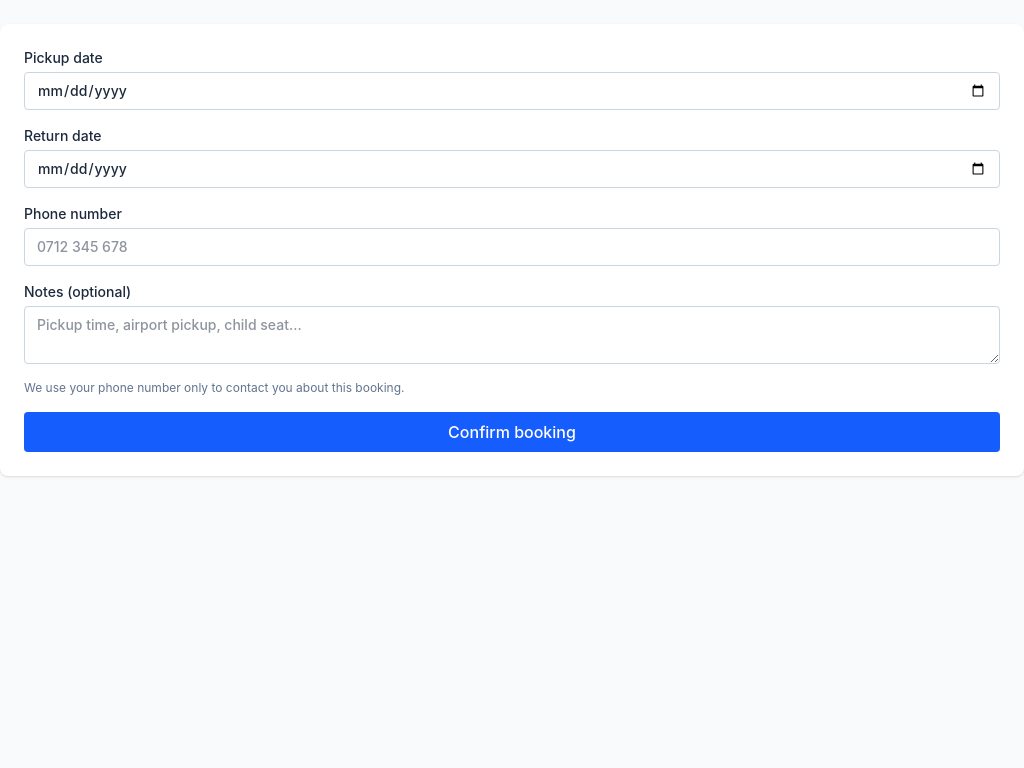
Scenario: BookingForm › rejects an invalid phone number
In the date field labelled "Pickup date": {"x": 512, "y": 91} x1=24 y1=72 x2=1000 y2=110, type "2099-01-10"
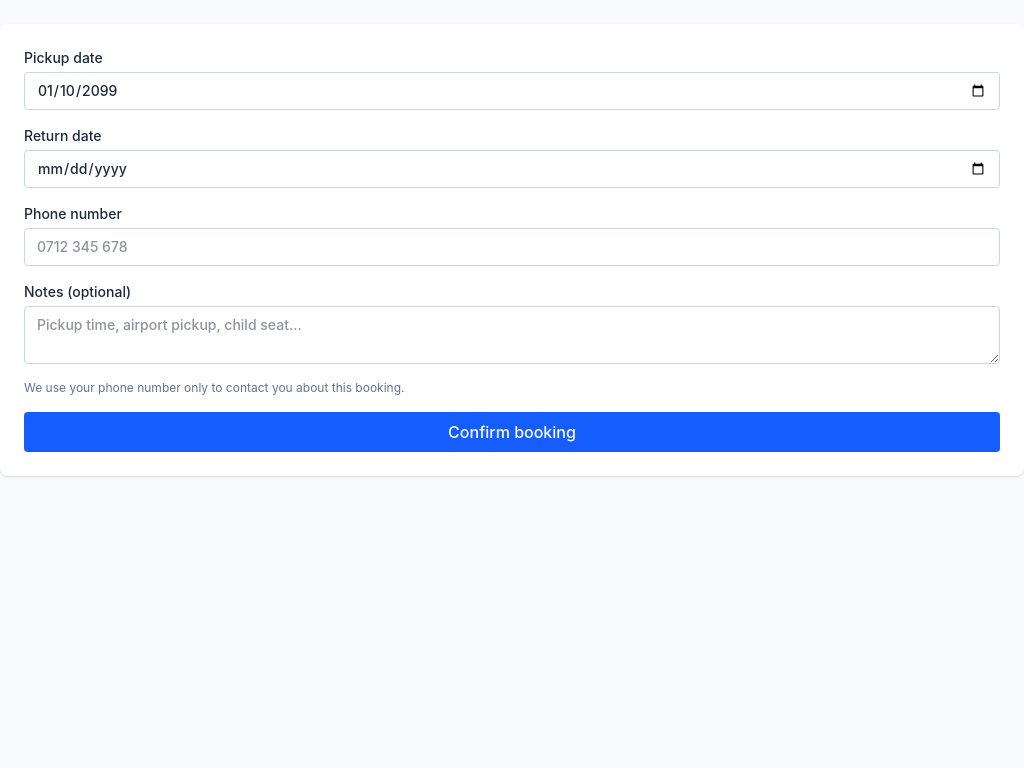
In the date field labelled "Return date": {"x": 512, "y": 169} x1=24 y1=150 x2=1000 y2=188, type "2099-01-13"
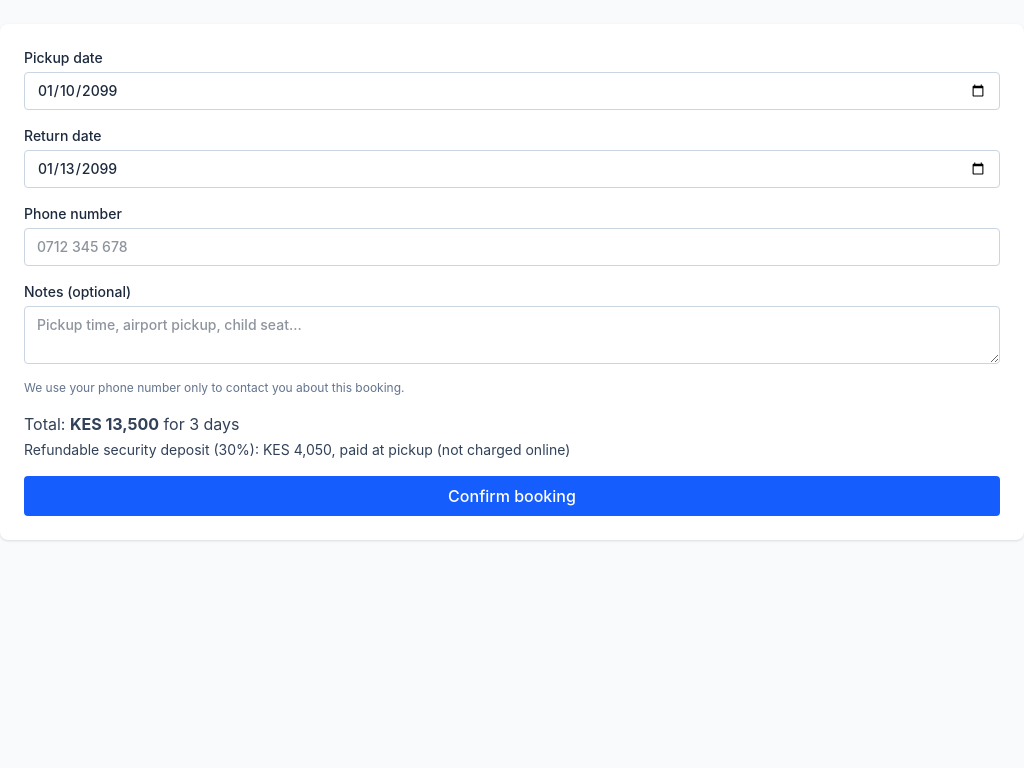
In the field labelled "Phone number": {"x": 512, "y": 247} x1=24 y1=228 x2=1000 y2=266, type "12345"
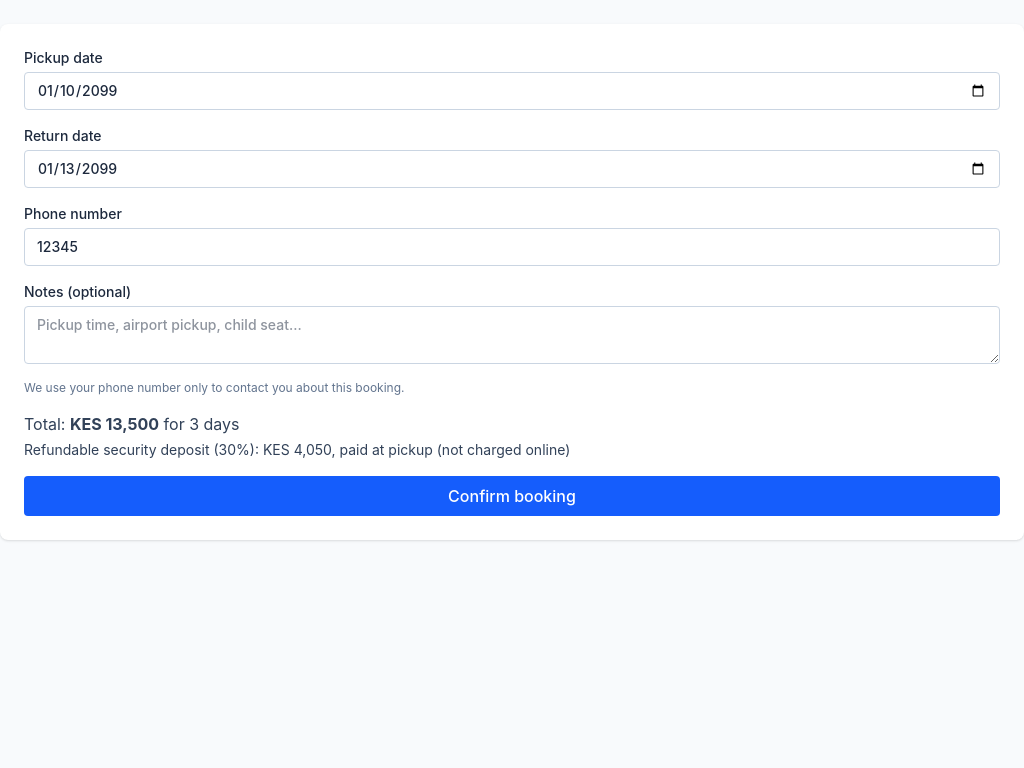
Click the button "Confirm booking": {"x": 512, "y": 496} x1=24 y1=476 x2=1000 y2=516
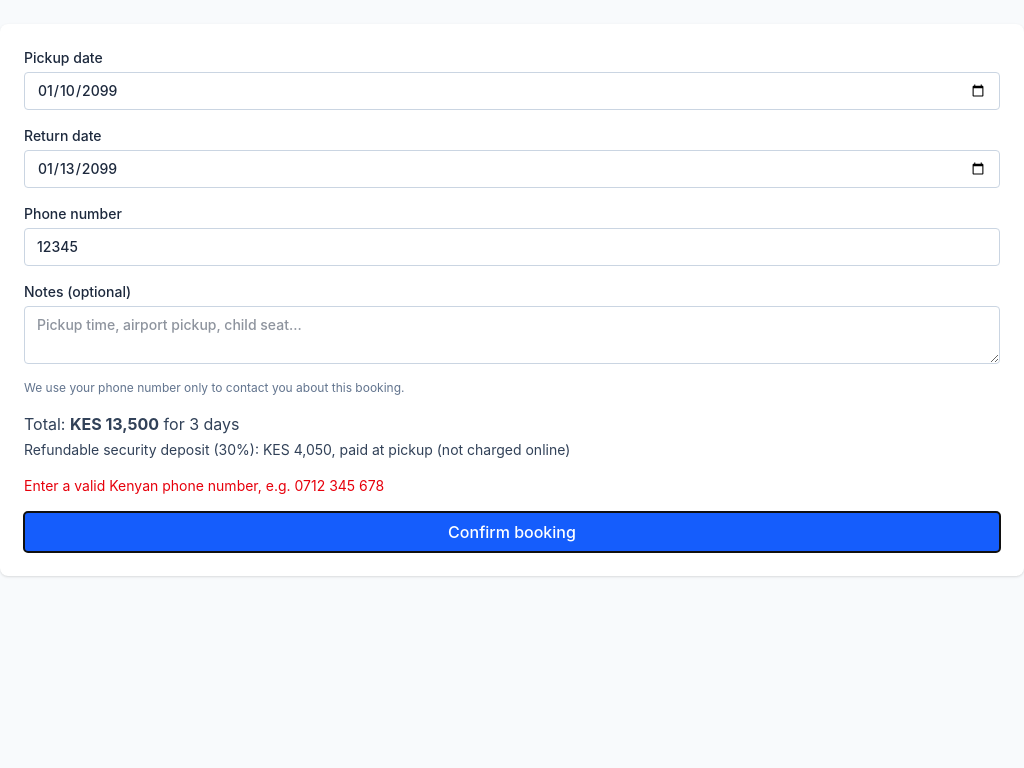
expect the message shows "valid Kenyan phone number": met, box x1=24 y1=477 x2=384 y2=494
